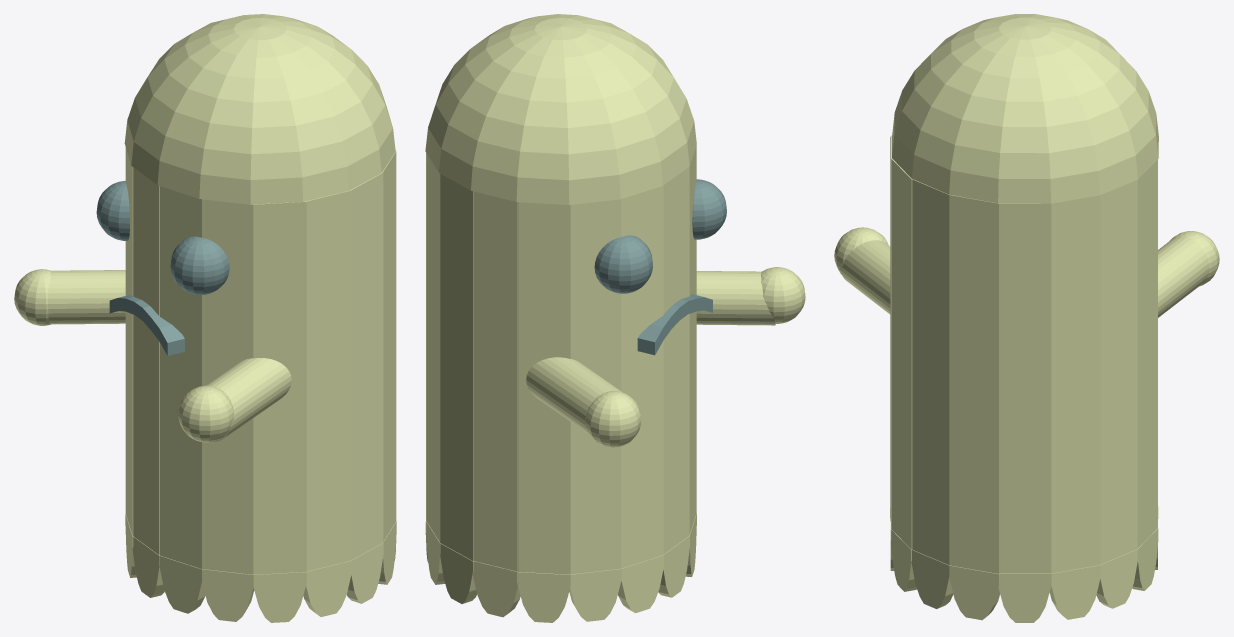
The model's file is призрак.fbx.
3 views of the same model, side by side, from view 1: azimuth 30°, elevation 25°; view 2: azimuth 150°, elevation 25°; view 3: azimuth 270°, elevation 25° (orthographic).
Visible parts, largest first — view 1: призракъ; view 2: призракъ; view 3: призракъ.
Boxes of the visible parts, bbox=[...] form: призракъ: bbox=[14, 14, 396, 622]; призракъ: bbox=[425, 14, 805, 622]; призракъ: bbox=[834, 14, 1219, 622].
Bounding box in the file's own units: 325 × 608 × 393.
